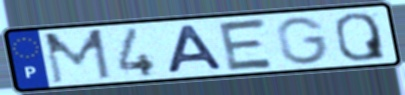4: (115, 26, 158, 79)
A: (163, 23, 227, 75)
E: (216, 16, 278, 72)
G: (274, 15, 332, 67)
M: (41, 27, 114, 86)
Q: (332, 11, 389, 63)
